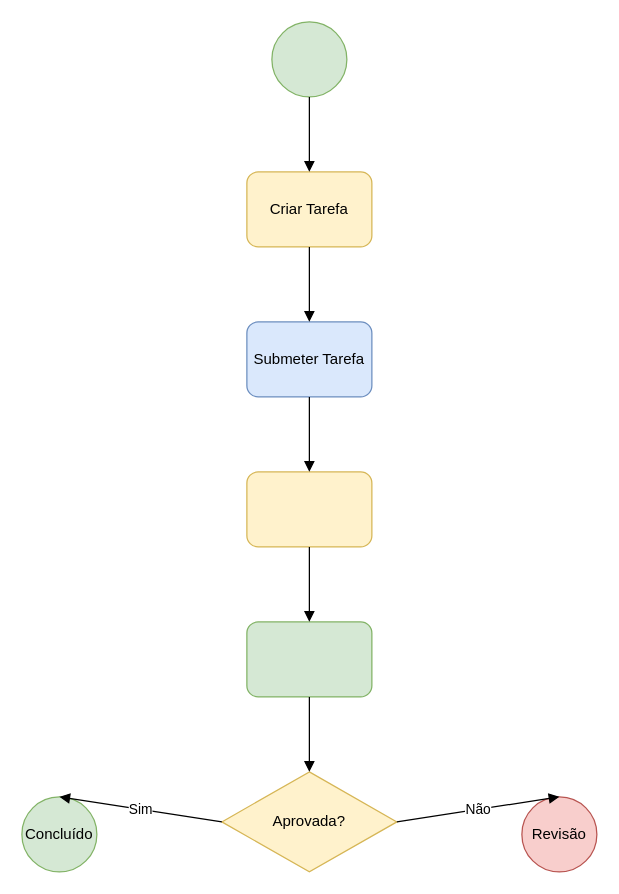
Some shapes in this 619 by 894 pixel diagram are drawn without their labels. The shapes that lost their labels are listed below. From the top down, each one's centre as x and y in pixels, then its label:
(309,59): Início
(309,509): Avaliar Tarefa
(309,659): Enviar Notificação
